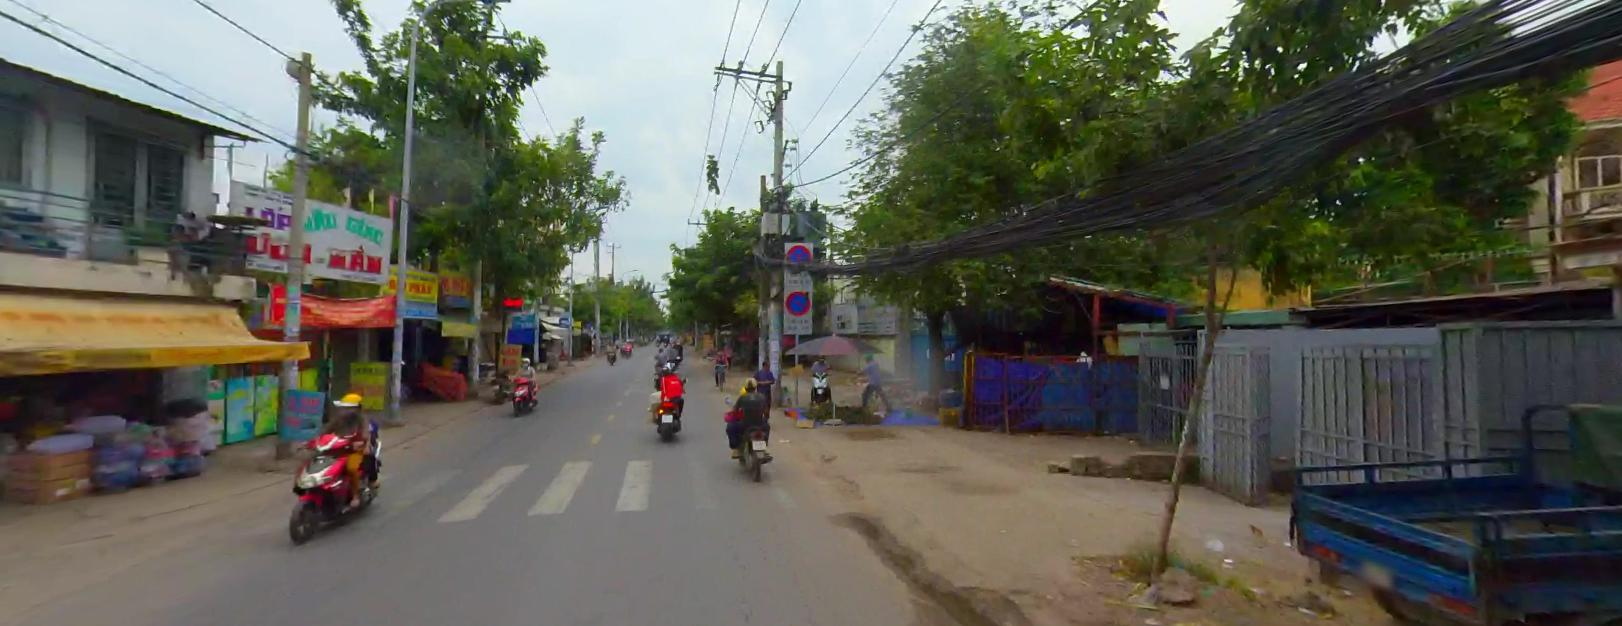Cam dung va do: (785, 242, 811, 272), (785, 288, 810, 314)
